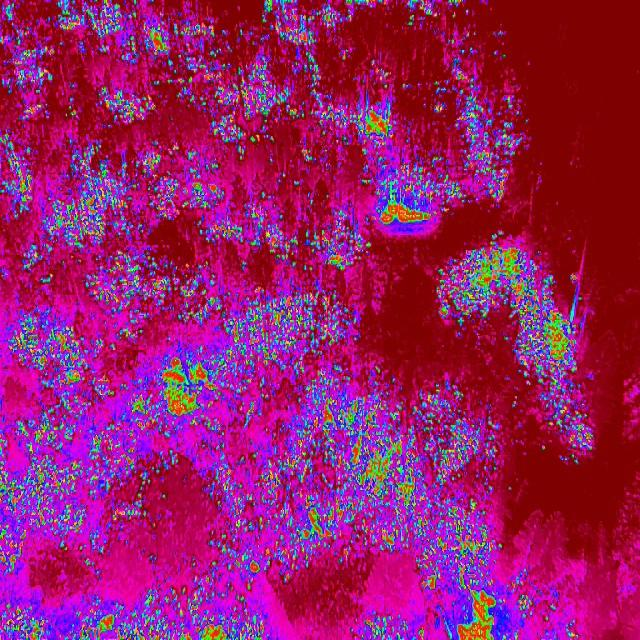fire: (0, 0, 365, 640), (366, 365, 516, 640), (364, 0, 522, 234), (435, 243, 589, 334), (517, 334, 600, 460), (517, 561, 591, 640)
